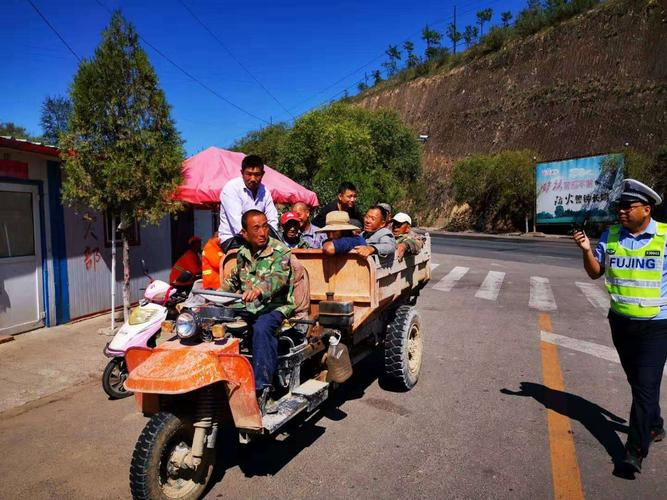driver: (226, 219, 301, 382)
overloading: (176, 163, 449, 494)
passenger: (219, 156, 282, 240), (363, 208, 398, 273), (325, 216, 364, 263), (328, 183, 361, 214)
